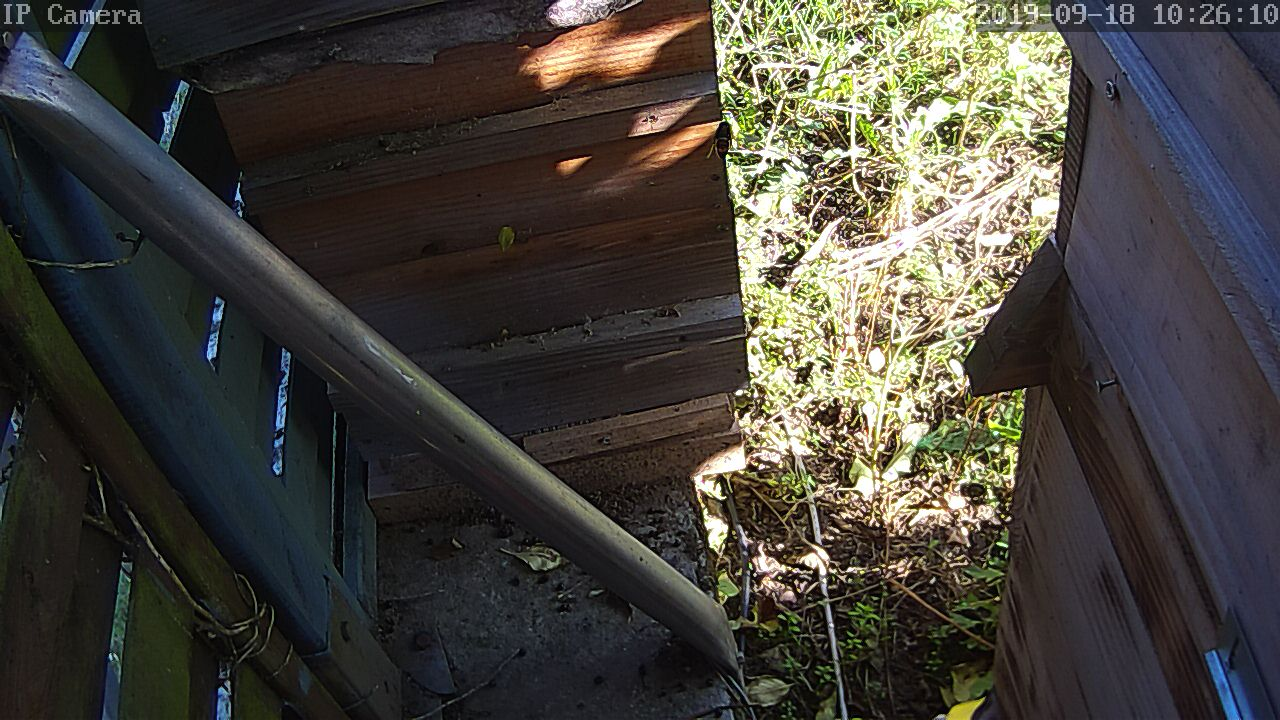hornet: (706, 112, 732, 164)
